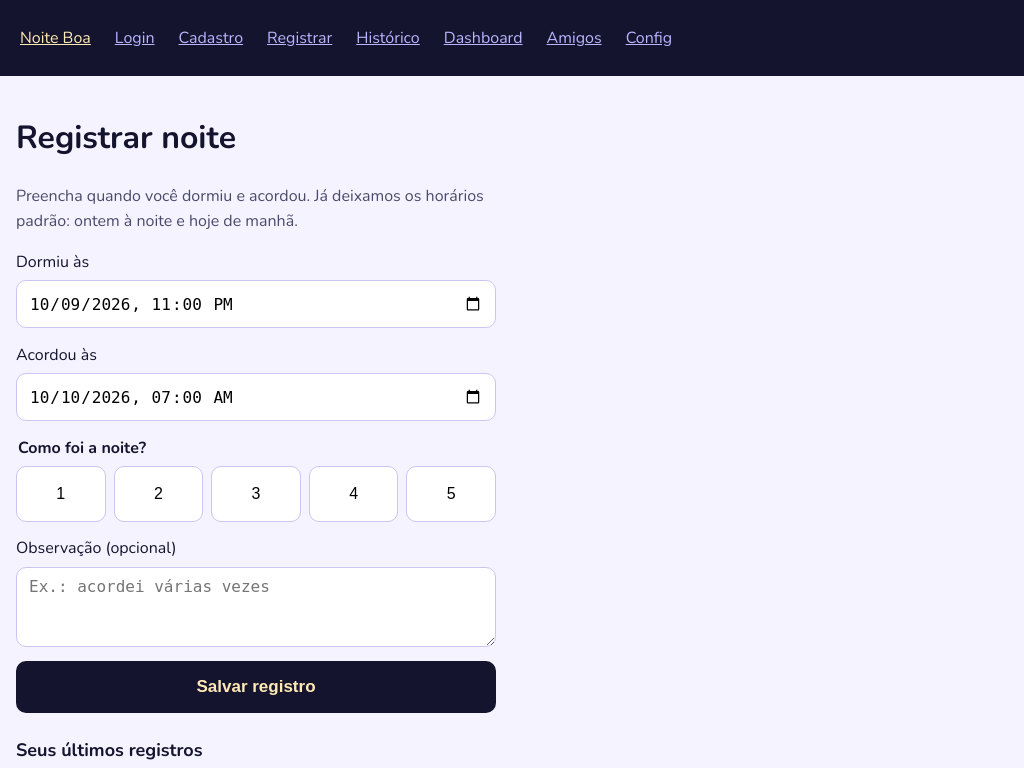
it: tela de Registrar sono › exige escolher a qualidade
Replace the text in the field labelled "Dormiu às" with "2026-10-07T23:00" at (256, 304), box [16,280,496,328]
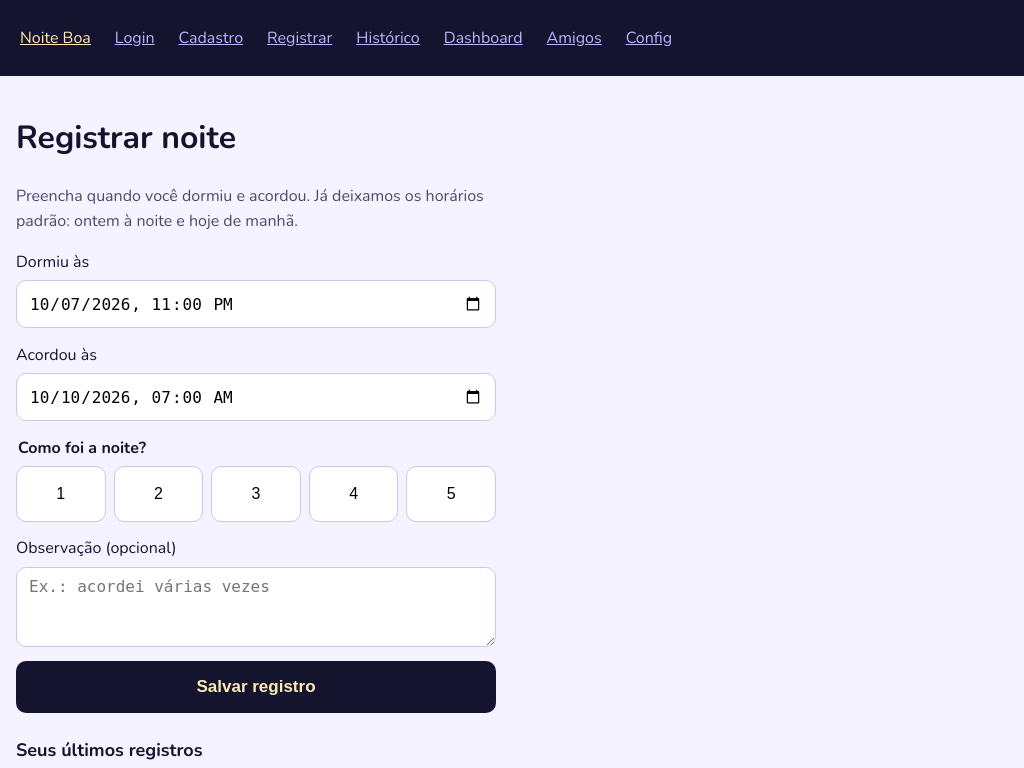
Replace the text in the field labelled "Acordou às" with "2026-10-08T07:00" at (256, 397), box [16,373,496,421]
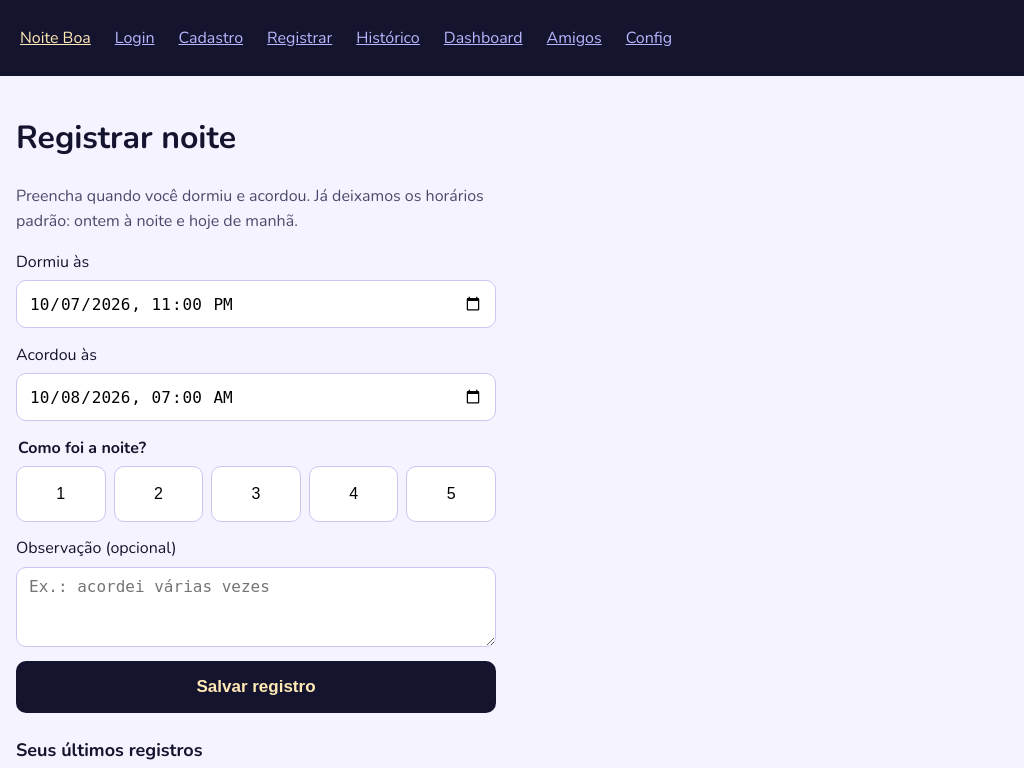
Click the button "Salvar registro" at (256, 687), box [16,661,496,713]
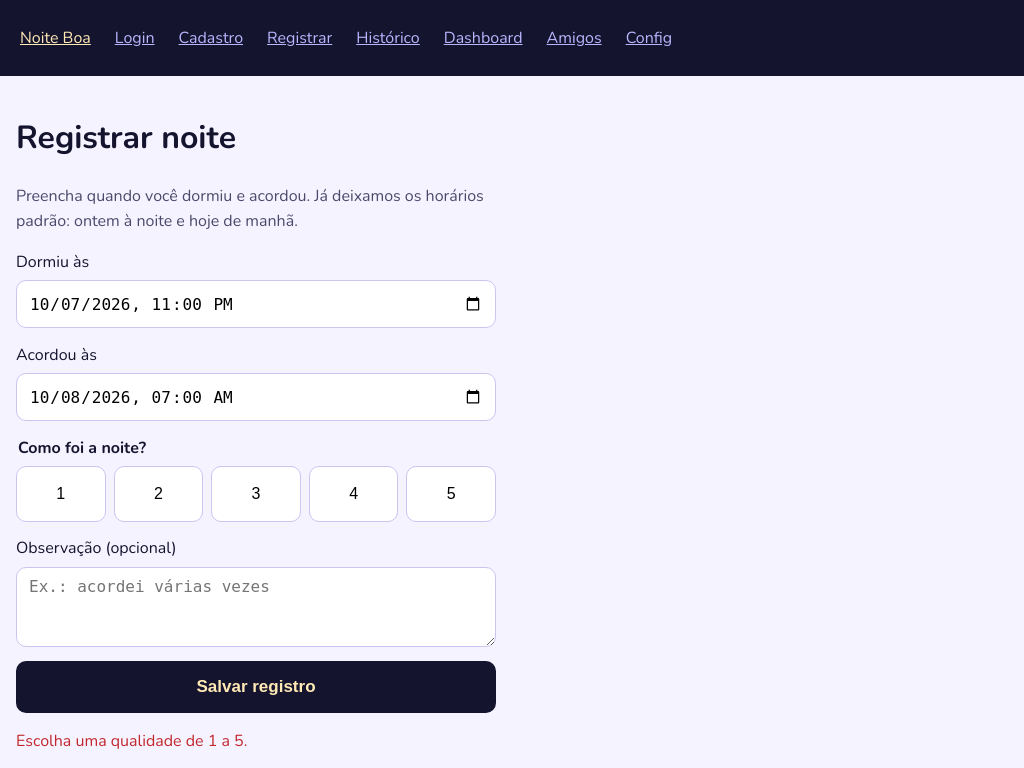
Expected: the message shows "1 a 5", [16,730,247,752]
